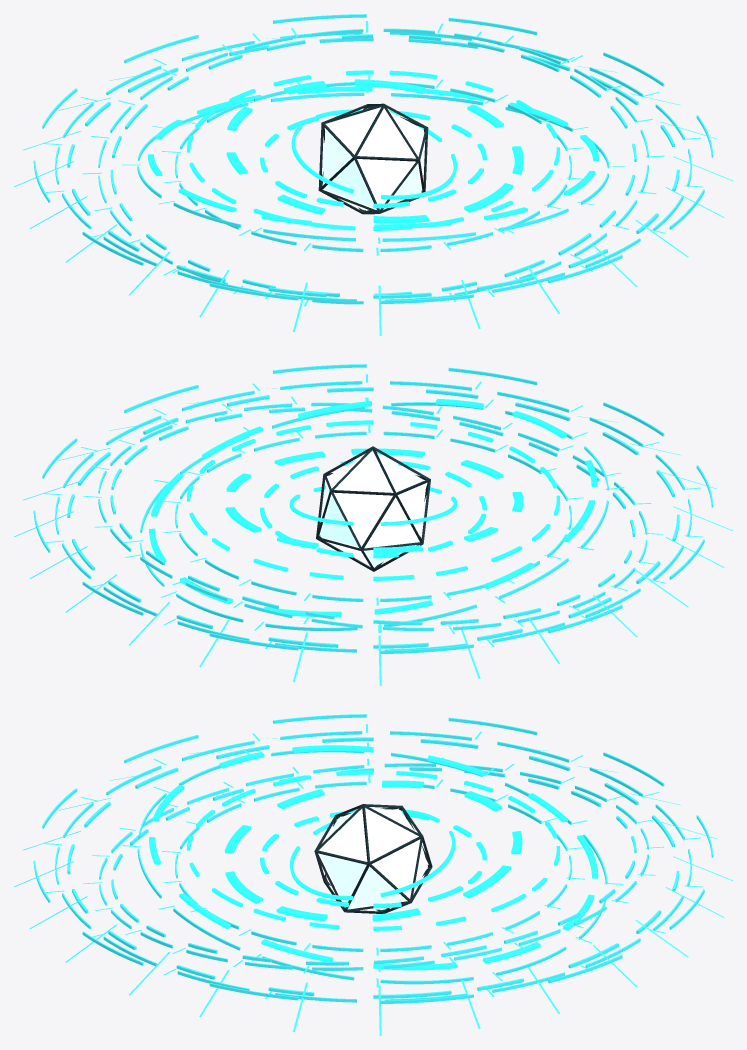
File: core.glb
3 views of the same model, one above another, from view 1: azimuth 30°, elevation 25°; view 2: azimuth 150°, elevation 25°; view 3: azimuth 270°, elevation 25° (orthographic).
Visible parts, largest first — view 1: Faceted plasma, Outer radial lattice, Fine tracks 5, Fine tracks 4, Cyan segments 3, Cyan segments 5, Cyan segments 1, Fine tracks 3, Cyan segments 4, Triangular containment, Fine tracks 2, Cyan segments 2 (+2 smaller); view 2: Faceted plasma, Outer radial lattice, Fine tracks 5, Fine tracks 4, Cyan segments 3, Cyan segments 5, Cyan segments 4, Fine tracks 3, Fine tracks 2, Triangular containment, Cyan segments 1, Cyan segments 2 (+2 smaller); view 3: Faceted plasma, Outer radial lattice, Fine tracks 5, Cyan segments 3, Fine tracks 4, Cyan segments 5, Cyan segments 1, Fine tracks 3, Cyan segments 4, Triangular containment, Fine tracks 2, Cyan segments 2 (+2 smaller).
Boxes of the visible parts, x1,y1,x2,y2 form: Faceted plasma: (323, 108, 423, 210); Outer radial lattice: (14, 14, 732, 335); Fine tracks 5: (43, 24, 702, 306); Fine tracks 4: (82, 21, 664, 308); Cyan segments 3: (148, 86, 598, 228); Cyan segments 5: (67, 37, 679, 298); Cyan segments 1: (226, 79, 523, 223); Fine tracks 3: (122, 91, 624, 243); Cyan segments 4: (110, 34, 636, 296); Triangular containment: (318, 103, 428, 214); Fine tracks 2: (162, 75, 583, 255); Cyan segments 2: (187, 70, 559, 230); Faceted plasma: (320, 451, 426, 566); Outer radial lattice: (14, 364, 732, 685); Fine tracks 5: (43, 374, 702, 656); Fine tracks 4: (83, 396, 662, 633); Cyan segments 3: (149, 398, 597, 617); Cyan segments 5: (67, 387, 679, 648); Cyan segments 4: (110, 407, 635, 625); Fine tracks 3: (124, 397, 624, 632); Fine tracks 2: (162, 425, 584, 605); Triangular containment: (316, 446, 430, 571); Cyan segments 1: (225, 448, 523, 553); Cyan segments 2: (187, 420, 559, 580); Faceted plasma: (319, 808, 427, 909); Outer radial lattice: (14, 714, 732, 1035); Fine tracks 5: (43, 724, 702, 1006); Cyan segments 3: (149, 745, 598, 970); Fine tracks 4: (83, 757, 663, 973); Cyan segments 5: (67, 737, 679, 998); Cyan segments 1: (224, 780, 522, 921); Fine tracks 3: (122, 742, 623, 987); Cyan segments 4: (111, 767, 636, 965); Triangular containment: (314, 804, 432, 913); Fine tracks 2: (162, 775, 584, 955); Cyan segments 2: (187, 770, 559, 930).
Bounding box in the file's own units: 4.2 × 0.7446 × 4.2.
